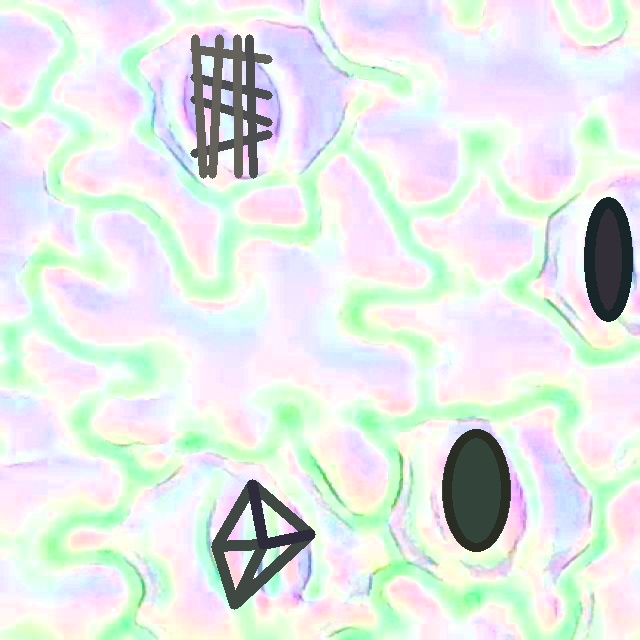close: (441, 429, 510, 551)
open: (212, 479, 314, 608), (190, 34, 272, 178), (583, 197, 632, 322)
